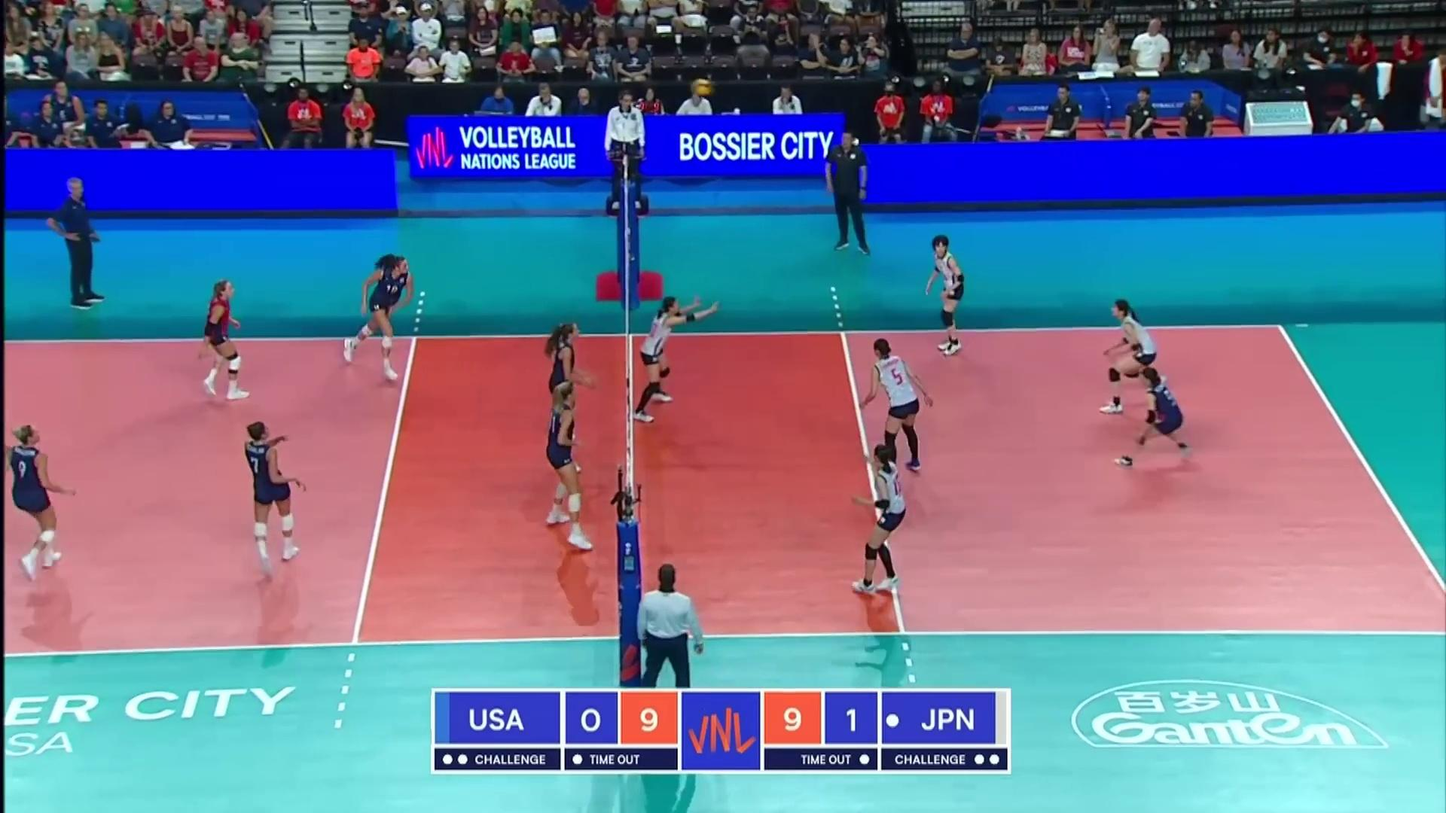player: (9, 424, 74, 574), (244, 422, 308, 571), (545, 385, 600, 556), (863, 339, 933, 470), (344, 256, 414, 381), (1117, 366, 1199, 470), (1099, 299, 1171, 414), (640, 295, 706, 420), (854, 444, 907, 598), (542, 321, 586, 480), (202, 281, 250, 403), (928, 234, 971, 356)
refree: (634, 563, 703, 690), (606, 93, 651, 212)
